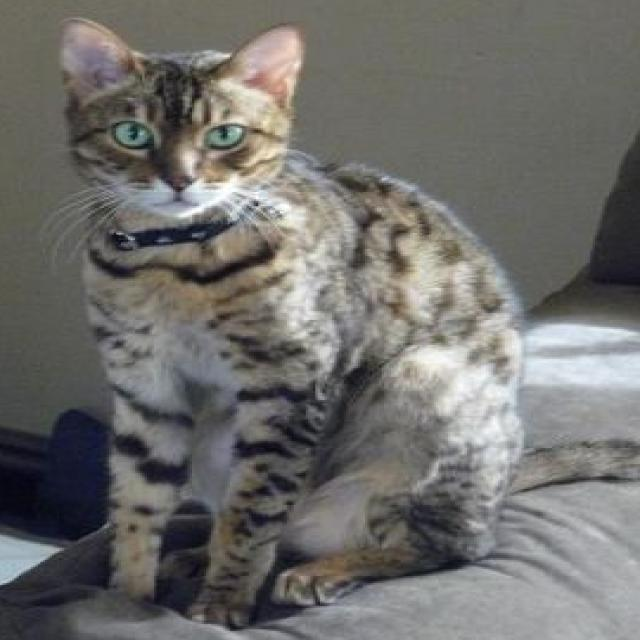Bengal: (52, 11, 640, 636)
